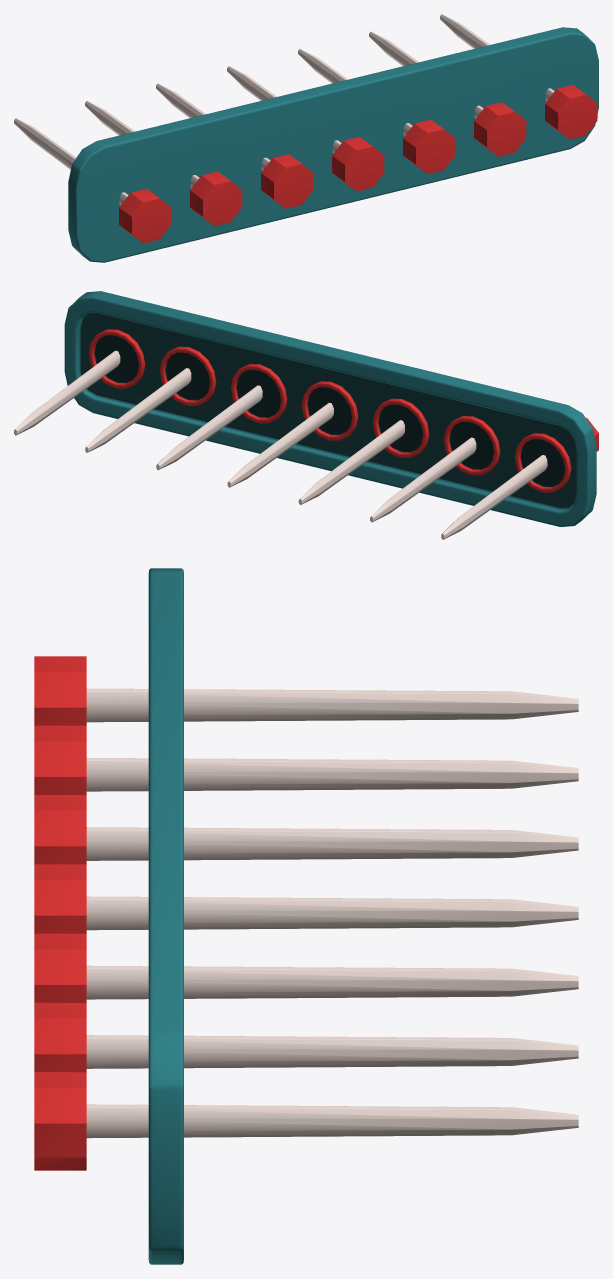
Rendered from Pike2.fbx.
The picture shows the model from 3 angles, top to bottom: view 1: azimuth 30°, elevation 25°; view 2: azimuth 150°, elevation 25°; view 3: azimuth 270°, elevation 25°; orthographic projection. The views are drawn at different scales.
Parts seen in each view (by area): view 1: Plane.005, Plane.006; view 2: Plane.005, Plane.006; view 3: Plane.006, Plane.005.
Part boxes in pixels (x1,y1,x2,y2): Plane.005: [68, 27, 598, 262]; Plane.006: [14, 14, 597, 243]; Plane.005: [64, 291, 596, 526]; Plane.006: [14, 350, 598, 539]; Plane.006: [34, 656, 578, 1170]; Plane.005: [148, 568, 183, 1264].
Bounding box in the file's own units: 7.92 × 1.68 × 3.57.
